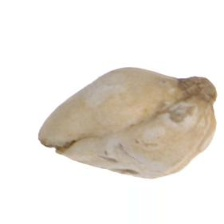L1: (180, 73, 217, 108), (38, 128, 74, 155)
L2: (37, 67, 217, 179)
